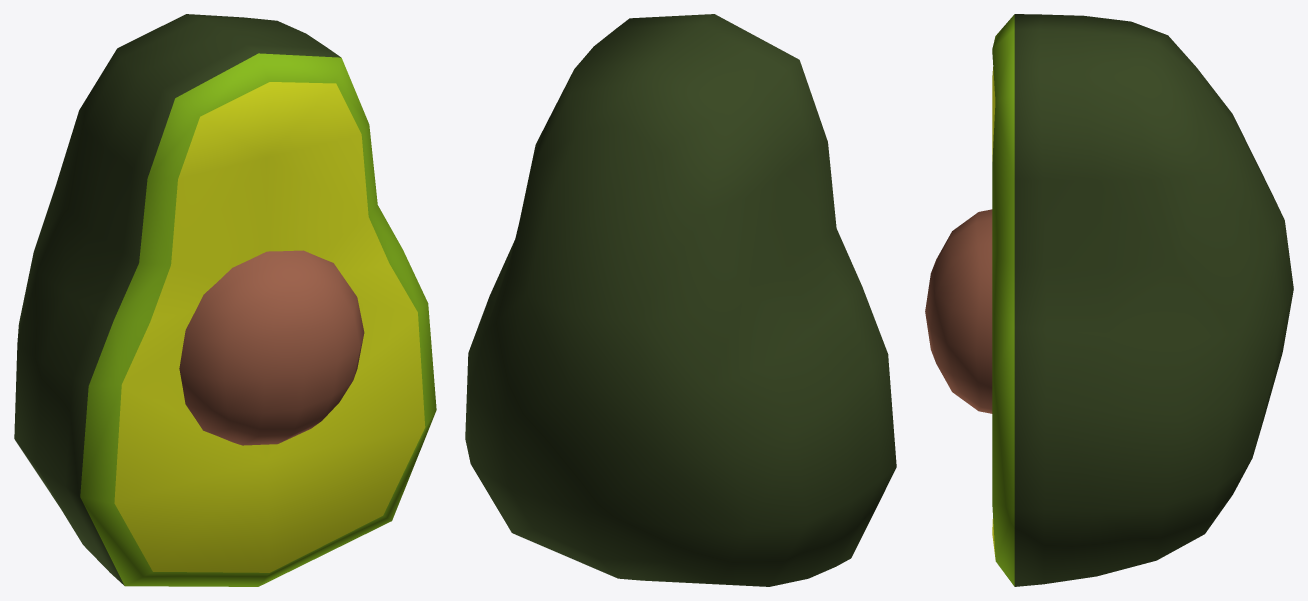
Rendered from avocado.glb.
3 renders of one model, left to right at view 1: azimuth 30°, elevation 25°; view 2: azimuth 150°, elevation 25°; view 3: azimuth 270°, elevation 25°, orthographic. The views are drawn at different scales.
Parts seen in each view (by area): view 1: FoodIngredient_Avocado; view 2: FoodIngredient_Avocado; view 3: FoodIngredient_Avocado.
Part boxes in pixels (bbox=[...]): FoodIngredient_Avocado: bbox=[14, 14, 436, 586]; FoodIngredient_Avocado: bbox=[465, 14, 896, 586]; FoodIngredient_Avocado: bbox=[925, 14, 1293, 586].
Size of the model in its own units: 0.4637 by 0.6633 by 0.4216.
1 material, 1 textured.
